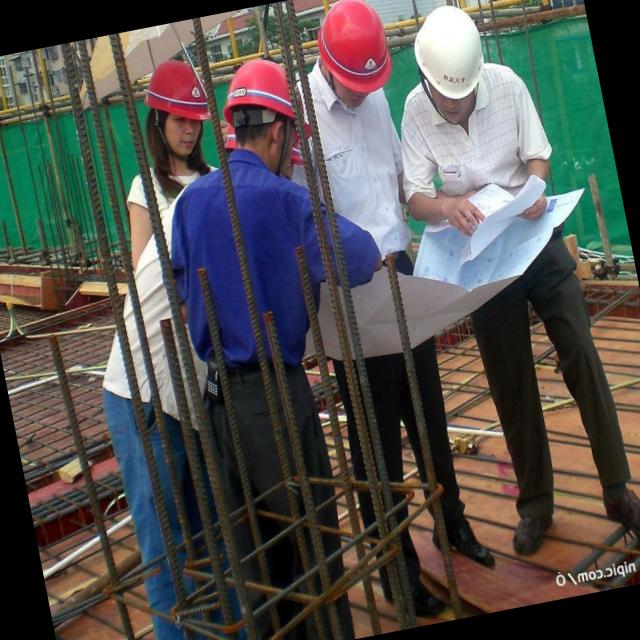helmet: (398, 1, 505, 112), (209, 46, 314, 148), (301, 0, 398, 104), (136, 58, 208, 134)
no-vest: (166, 170, 340, 386), (400, 75, 562, 268), (303, 87, 427, 282), (88, 157, 226, 270)
